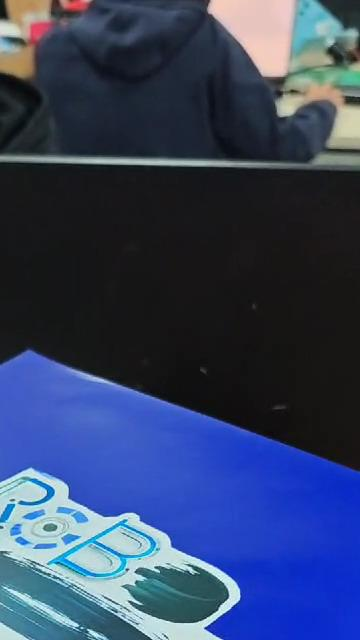B_R1: (0, 447, 313, 640)
